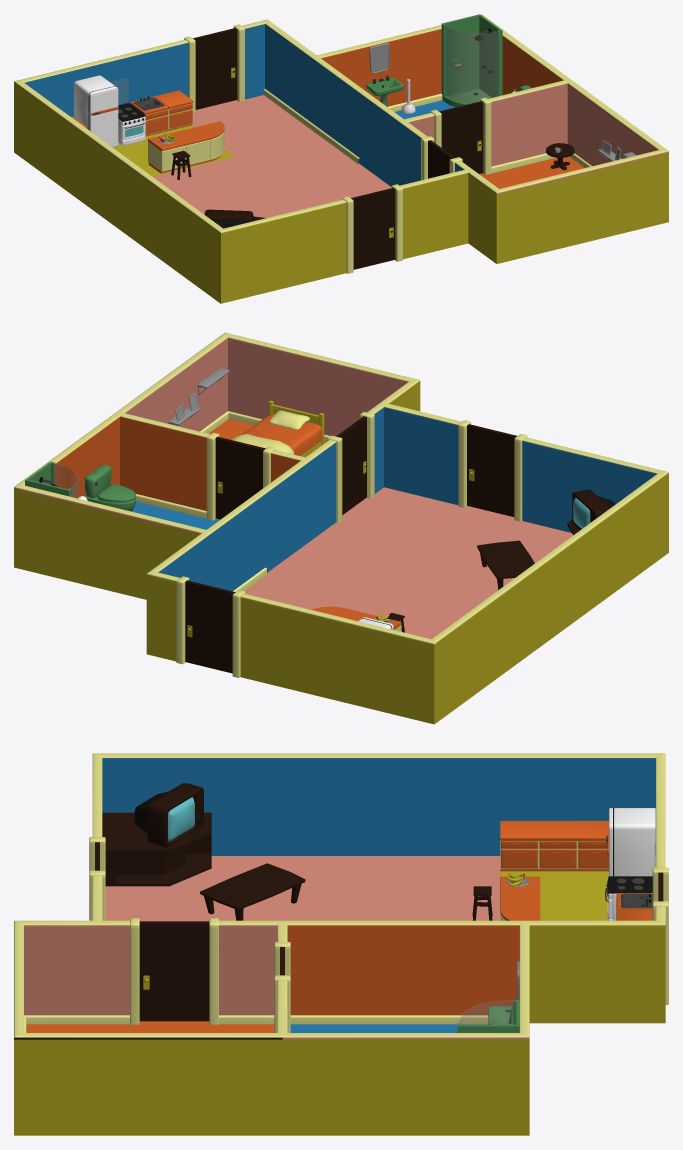
Rendered from SM_HouseInterior01.FBX.
The picture shows the model from 3 angles, top to bottom: view 1: azimuth 30°, elevation 25°; view 2: azimuth 150°, elevation 25°; view 3: azimuth 270°, elevation 25°; orthographic projection. The views are drawn at different scales.
Parts seen in each view (by area): view 1: SM_Wall_402, Floors, SM_Showe001, SM_Door005, SM_Door006, SM_KitchenSink007, SM_Door003, SM_Fridge_Door, SM_Stove, SM_KitchenSink, SM_KitchenSink001, SM_Fridge (+10 smaller); view 2: SM_Wall_402, Floors, SM_Door005, SM_Door006, SM_Door003, SM_Bed_Single, SM_Door004, SM_Table01, SM_Toilet, SM_Showe001, Object001, SM_WallDivider007 (+7 smaller); view 3: SM_Wall_402, Floors, SM_Door004, obj_TV_Stand_A_001, Object001, SM_Table01, SM_Fridge, SM_KitchenSink004, SM_KitchenSink005, SM_Showe001, SM_KitchenSink007, SM_KitchenSink003 (+4 smaller).
Part boxes in pixels (<box>): SM_Wall_402: <box>14,15,668,303</box>; Floors: <box>113,95,584,217</box>; SM_Showe001: <box>441,14,502,107</box>; SM_Door005: <box>193,28,237,109</box>; SM_Door006: <box>351,188,395,269</box>; SM_KitchenSink007: <box>148,121,224,173</box>; SM_Door003: <box>439,101,483,173</box>; SM_Fridge_Door: <box>88,86,118,147</box>; SM_Stove: <box>110,78,145,145</box>; SM_KitchenSink: <box>130,96,168,136</box>; SM_KitchenSink001: <box>155,90,193,130</box>; SM_Fridge: <box>74,75,114,129</box>; SM_Wall_402: <box>14,332,668,724</box>; Floors: <box>131,419,573,638</box>; SM_Door005: <box>185,580,235,673</box>; SM_Door006: <box>467,424,516,516</box>; SM_Door003: <box>215,436,265,519</box>; SM_Bed_Single: <box>231,400,324,457</box>; SM_Door004: <box>336,416,366,514</box>; SM_Table01: <box>477,540,534,589</box>; SM_Toilet: <box>84,464,135,511</box>; SM_Showe001: <box>25,461,78,498</box>; Object001: <box>572,489,615,529</box>; SM_WallDivider007: <box>176,576,189,664</box>; SM_Wall_402: <box>14,753,665,1135</box>; Floors: <box>26,856,655,1032</box>; SM_Door004: <box>139,921,209,1021</box>; obj_TV_Stand_A_001: <box>102,812,211,886</box>; Object001: <box>134,783,203,847</box>; SM_Table01: <box>200,863,305,920</box>; SM_Fridge: <box>614,808,655,876</box>; SM_KitchenSink004: <box>539,821,577,871</box>; SM_KitchenSink005: <box>500,821,538,871</box>; SM_Showe001: <box>457,1000,519,1032</box>; SM_KitchenSink007: <box>500,876,540,920</box>; SM_KitchenSink003: <box>577,821,608,871</box>.
Bounding box in the file's own units: 1355 × 235 × 1321.
